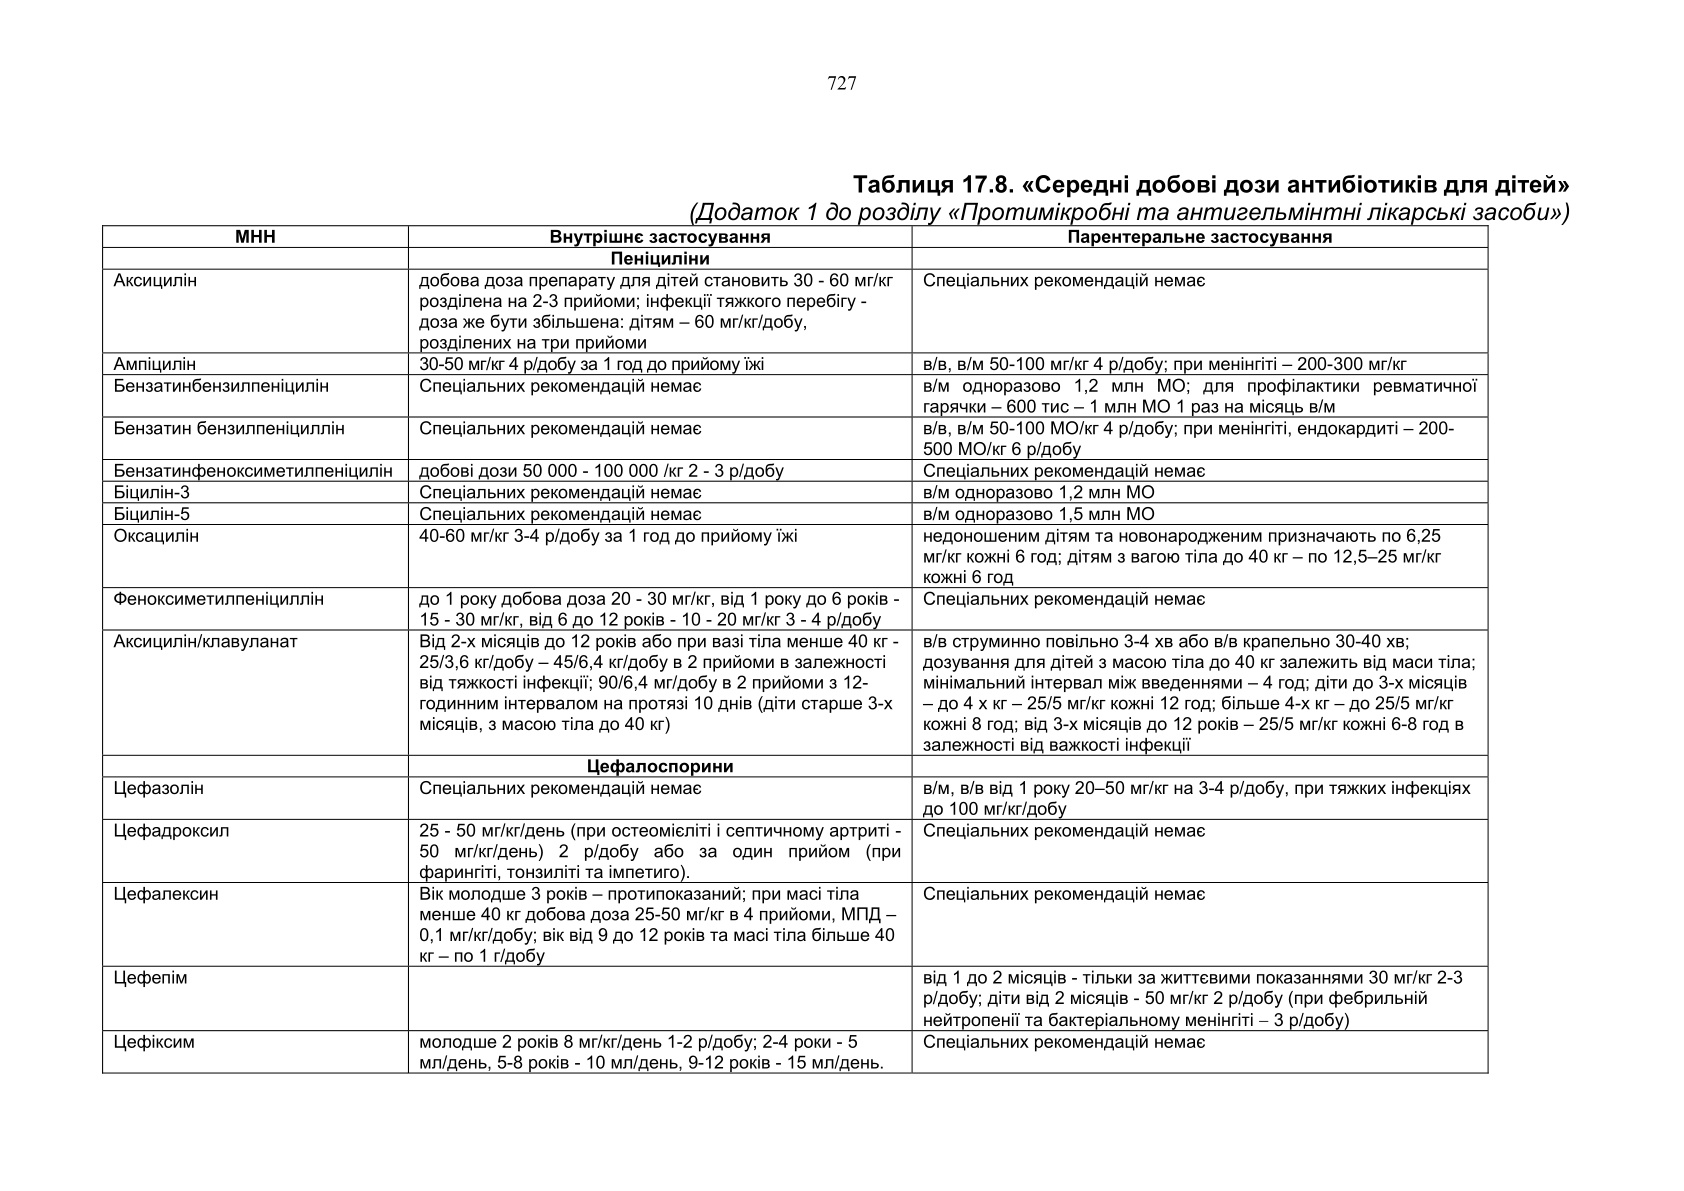full_lined: (100, 224, 1489, 1074)
